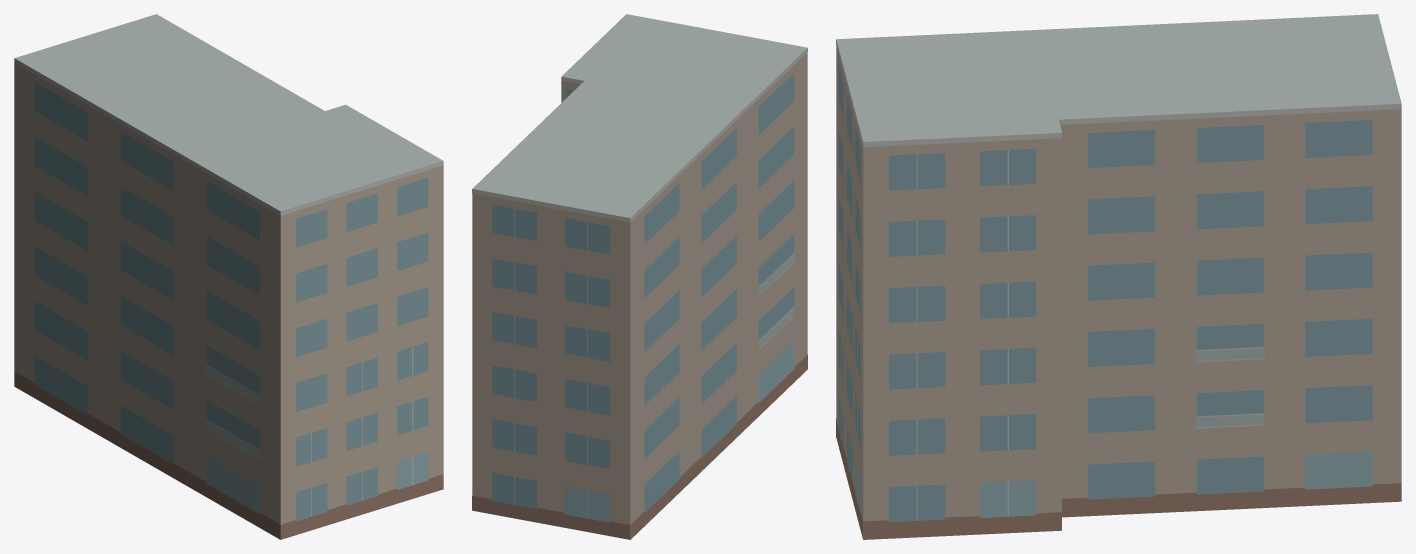
The model's file is survey-upis-32970631.glb.
The picture shows the model from 3 angles, left to right: view 1: azimuth 30°, elevation 25°; view 2: azimuth 150°, elevation 25°; view 3: azimuth 270°, elevation 25°; orthographic projection. The views are drawn at different scales.
Parts seen in each view (by area): view 1: survey-upis-32970631.tmp; view 2: survey-upis-32970631.tmp; view 3: survey-upis-32970631.tmp.
Part boxes in pixels (x1,y1,x2,y2): survey-upis-32970631.tmp: (14, 14, 443, 539); survey-upis-32970631.tmp: (472, 14, 807, 539); survey-upis-32970631.tmp: (836, 14, 1401, 539).
Size of the model in its own units: 12.57 by 18.2 by 23.46.
